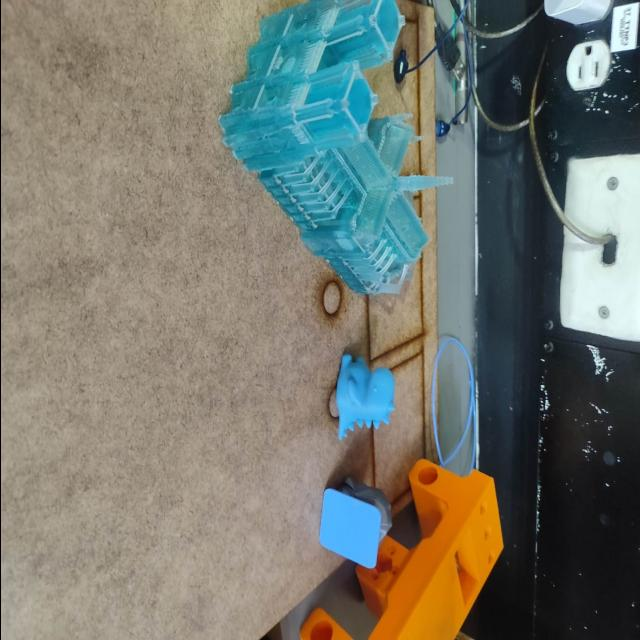DINO: (332, 346, 404, 452)
